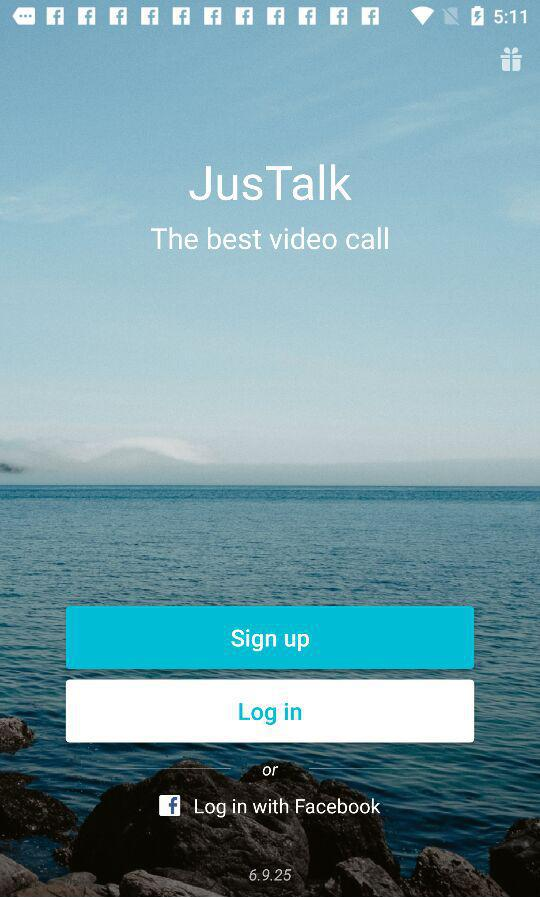BackgroundImage: (1, 29, 540, 897)
Icon: (499, 47, 523, 74), (159, 794, 181, 817)
Text: (189, 165, 353, 202), (151, 227, 389, 251), (195, 798, 382, 819), (249, 868, 292, 882), (263, 765, 280, 777)
TextButton: (66, 679, 475, 744), (66, 606, 475, 670)
UpperTaskBar: (1, 1, 540, 29)
